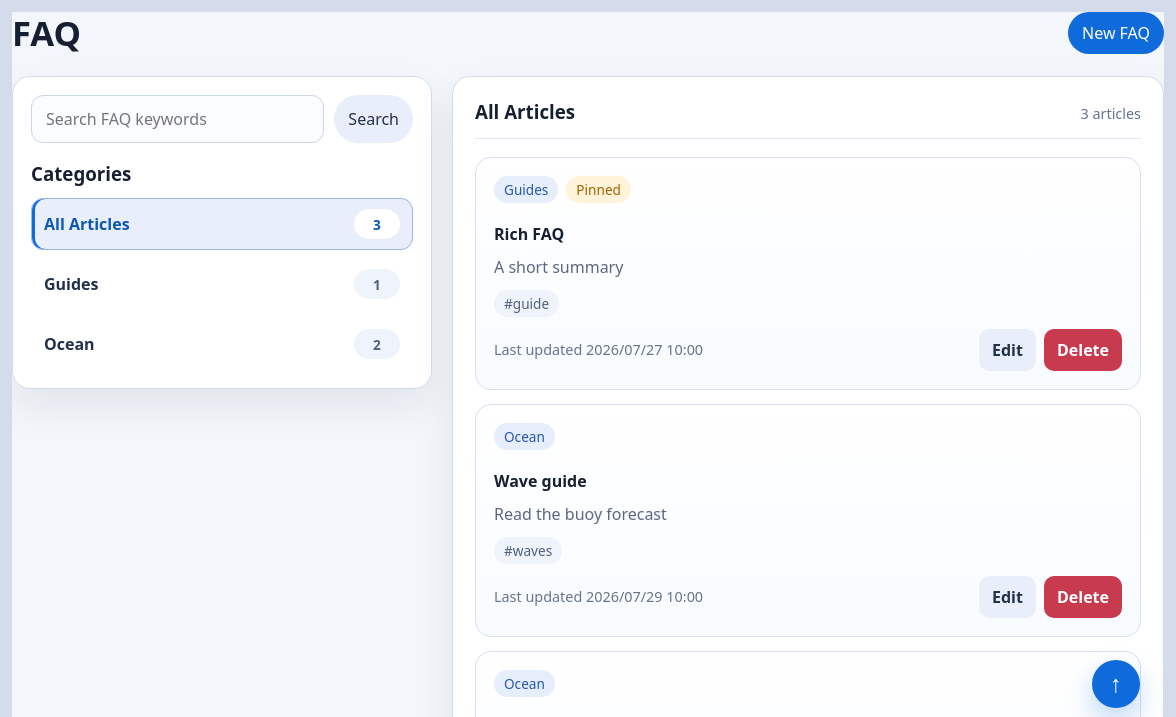
Test case: FaqPage category browsing › deletes from a card without opening article detail
The width and height of the screenshot is (1176, 717).
Check: the button "All Articles 3" is shown, box [31, 198, 413, 250]
Step 1. Click the button with aria-label "Delete Wave guide" → coordinates (1083, 597), box [1044, 576, 1122, 618]
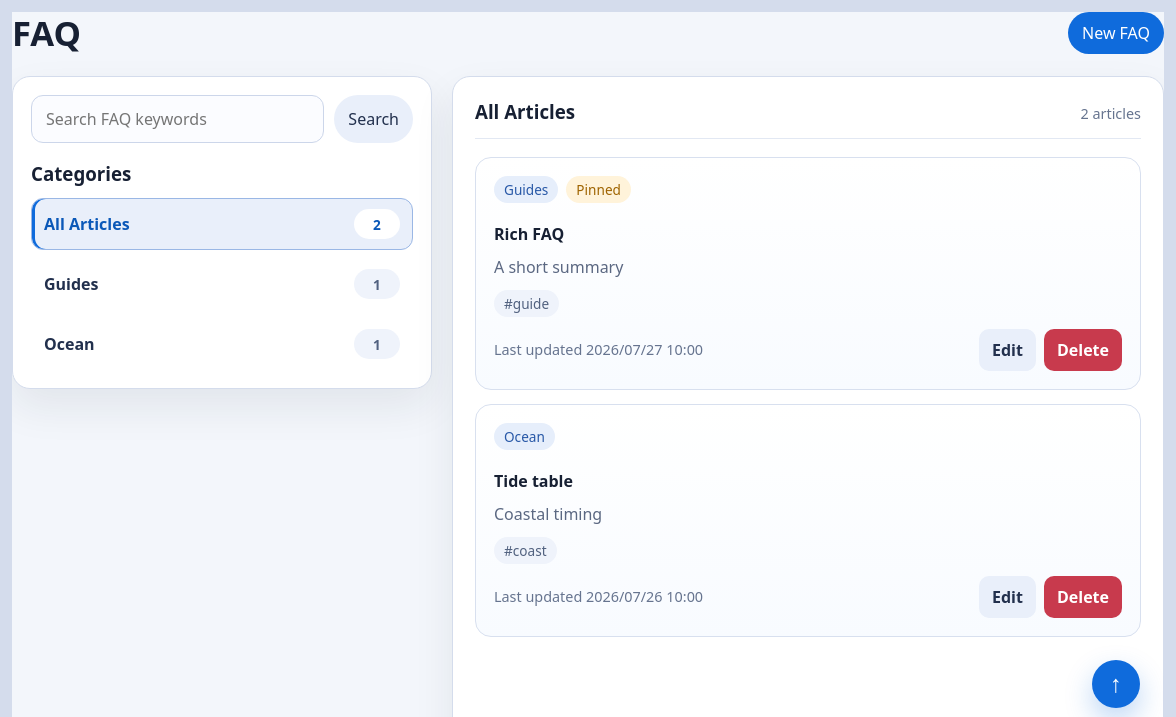
Check: the button "All Articles 2" is shown, box [31, 198, 413, 250]
